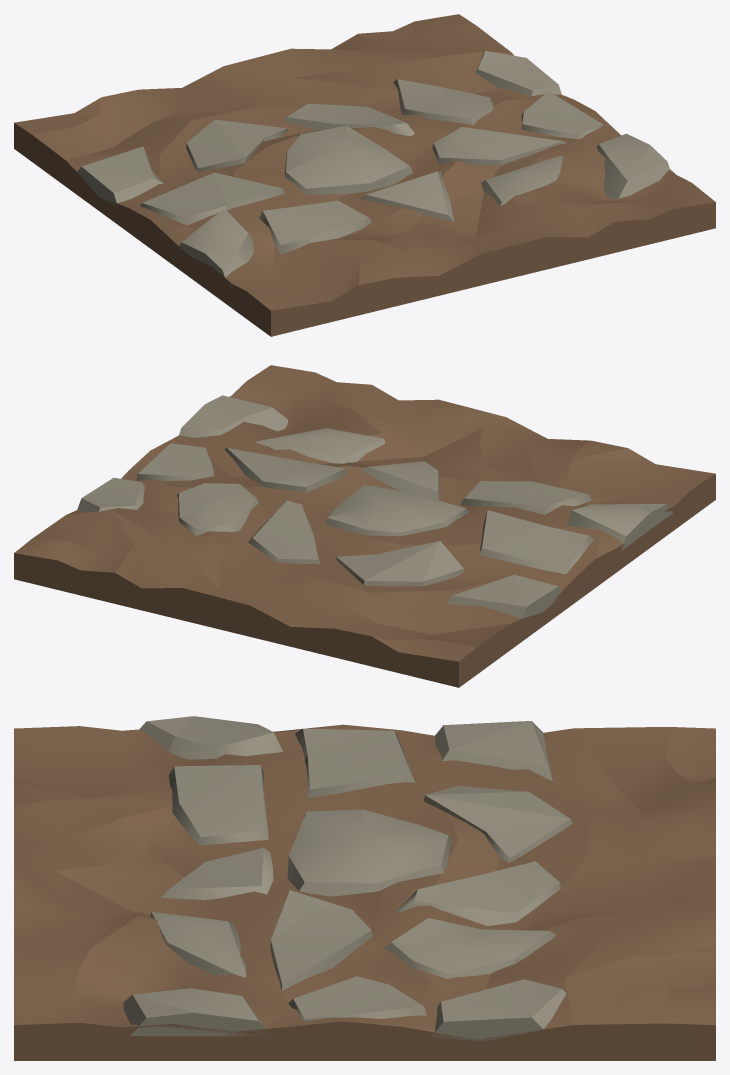
The model's file is Ground_Stone_Path_H.glb.
3 views of the same model, one above another, from view 1: azimuth 30°, elevation 25°; view 2: azimuth 150°, elevation 25°; view 3: azimuth 270°, elevation 25° (orthographic). The views are drawn at different scales.
Parts seen in each view (by area): view 1: Ground_Stone_Path_H; view 2: Ground_Stone_Path_H; view 3: Ground_Stone_Path_H.
Part boxes in pixels (<box>): Ground_Stone_Path_H: <box>14,14,715,336</box>; Ground_Stone_Path_H: <box>14,365,715,687</box>; Ground_Stone_Path_H: <box>14,716,715,1060</box>.
Bounding box in the file's own units: 1.47 × 0.1489 × 1.47.
